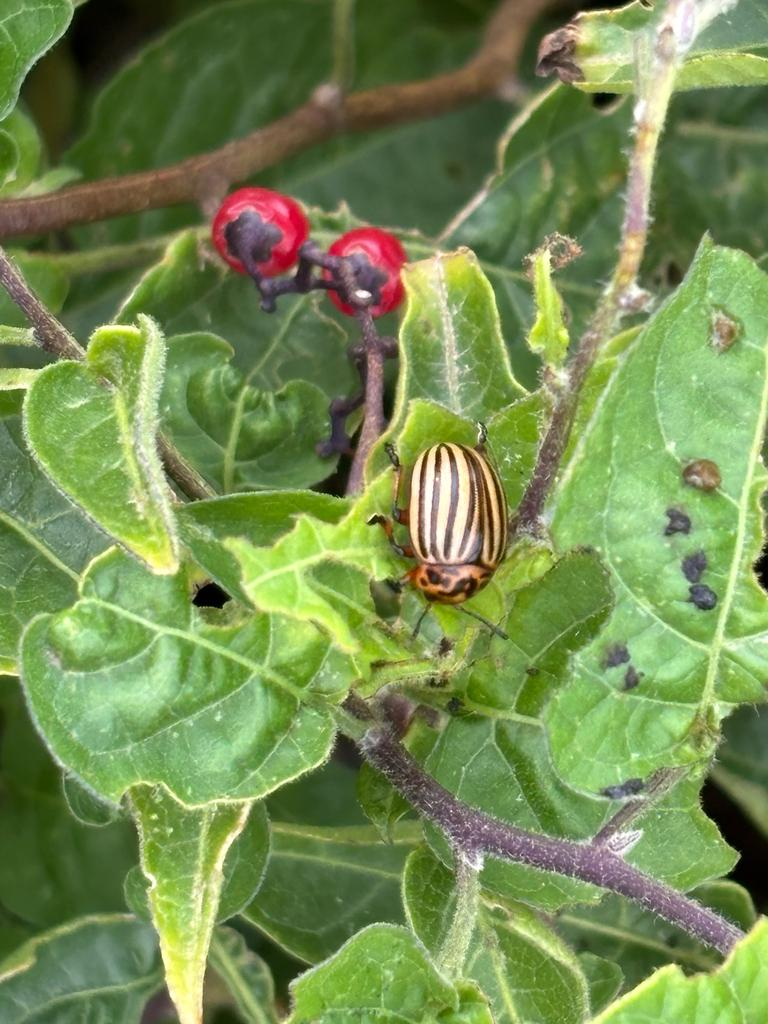potato_beetle: (336, 404, 553, 644)
